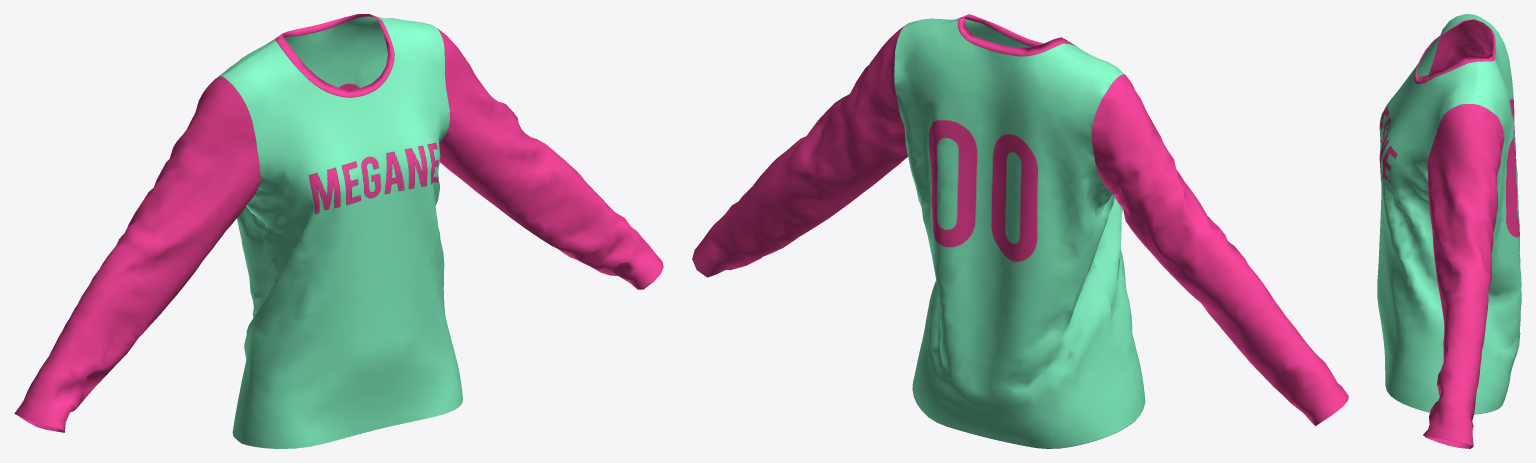
3 views of the same model, side by side, from view 1: azimuth 30°, elevation 25°; view 2: azimuth 150°, elevation 25°; view 3: azimuth 270°, elevation 25° (orthographic). The views are drawn at different scales.
Visible parts, largest first — view 1: Cloth; view 2: Cloth; view 3: Cloth.
Boxes of the visible parts, x1=… form: Cloth: x1=14, y1=14, x2=663, y2=448; Cloth: x1=692, y1=14, x2=1348, y2=448; Cloth: x1=1377, y1=14, x2=1521, y2=448.
Bounding box in the file's own units: 44.04 × 25.94 × 9.8.
